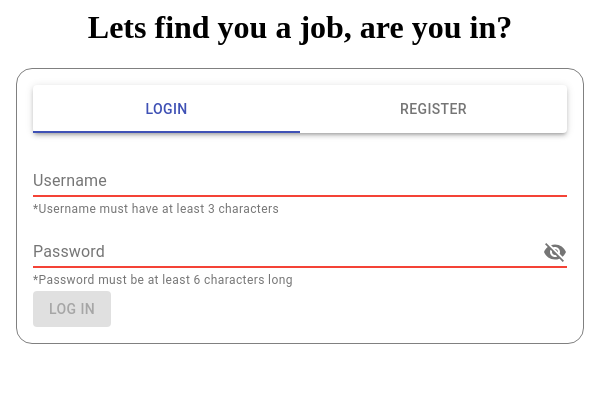
Test: tests for landing page › should display error message for login if the user does not exist
Type "razvan" into the field labelled "Username".
click(300, 181); type("razvan")  # box [33,165,567,197]
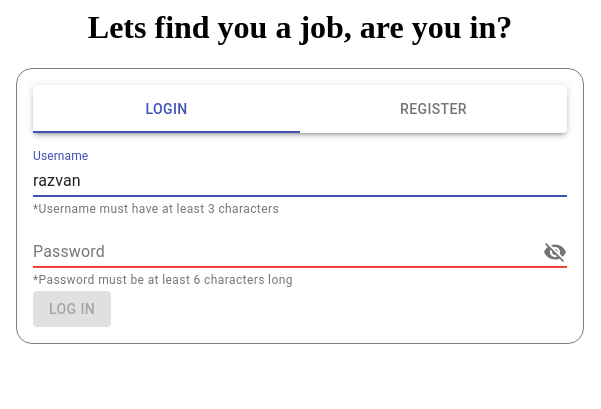
Type "parola112" into the password field labelled "Password".
click(278, 252); type("parola112")  # box [33,236,523,268]
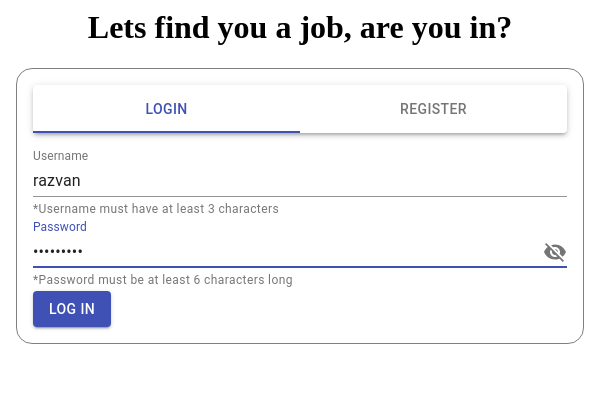
Click the button "Log in".
click(72, 309)  # box [33,291,111,327]
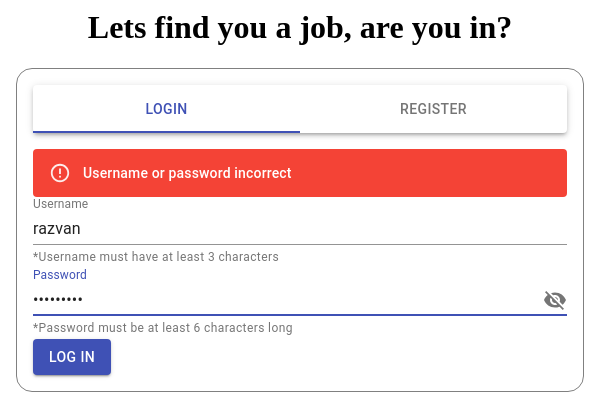
Now the text "Username or password incorrect" is shown, box [83,165,292,181]
